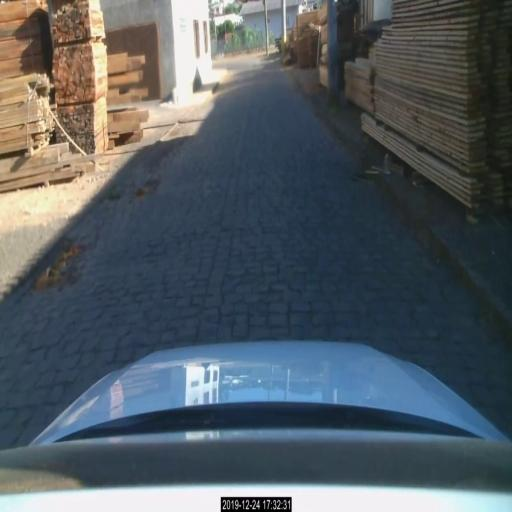Pothole: (30, 240, 83, 282), (135, 175, 150, 197), (102, 191, 121, 206)
